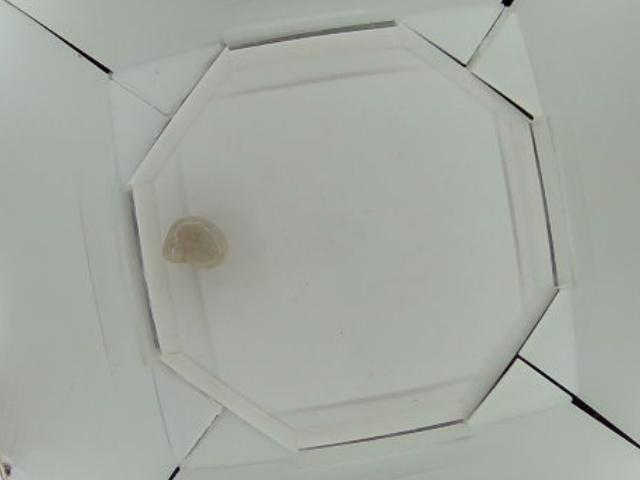Pebble: (163, 217, 227, 267)
